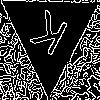K: (24, 9, 71, 65)
